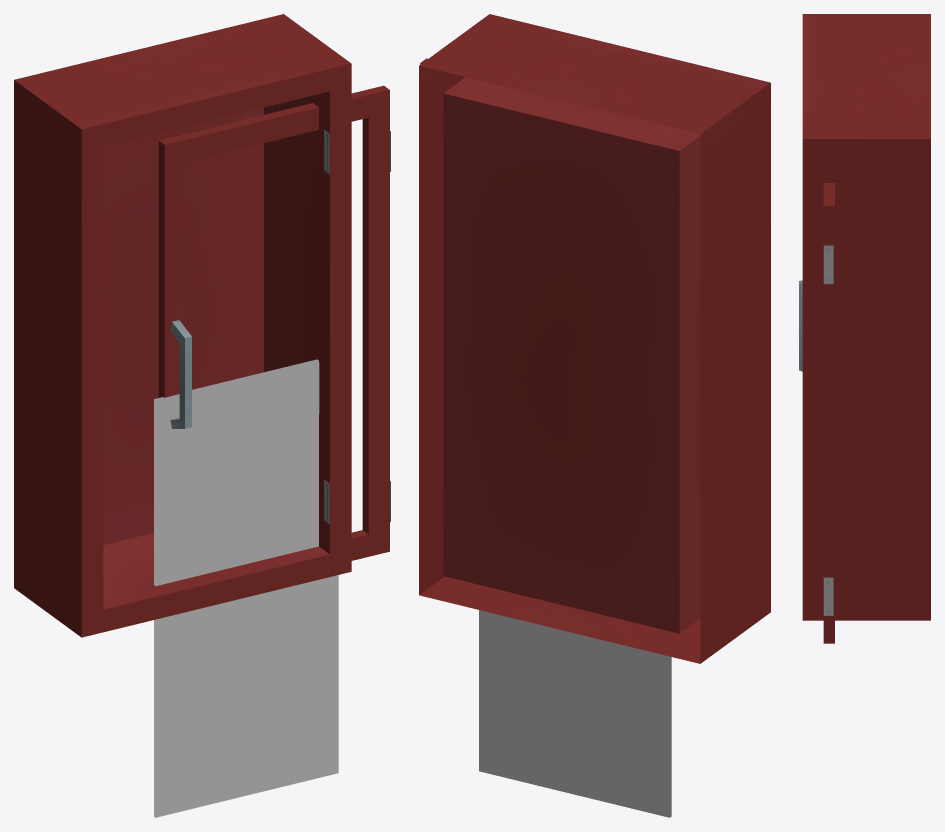
Rendered from FBX_Case_Combine.fbx.
The picture shows the model from 3 angles, left to right: view 1: azimuth 30°, elevation 25°; view 2: azimuth 150°, elevation 25°; view 3: azimuth 270°, elevation 25°; orthographic projection. The views are drawn at different scales.
Parts seen in each view (by area): view 1: SM_Case_Case, SM_Case_Glasss, SM_Case_Door; view 2: SM_Case_Case, SM_Case_Glasss; view 3: SM_Case_Case, SM_Case_Door.
Part boxes in pixels (x1,y1,x2,y2): SM_Case_Case: [14, 14, 351, 637]; SM_Case_Glasss: [154, 359, 338, 817]; SM_Case_Door: [158, 85, 390, 560]; SM_Case_Case: [419, 14, 770, 663]; SM_Case_Glasss: [479, 610, 671, 817]; SM_Case_Case: [802, 14, 930, 620]; SM_Case_Door: [799, 183, 834, 643].
Bounding box in the file's own units: 59.37 × 127 × 22.31.
